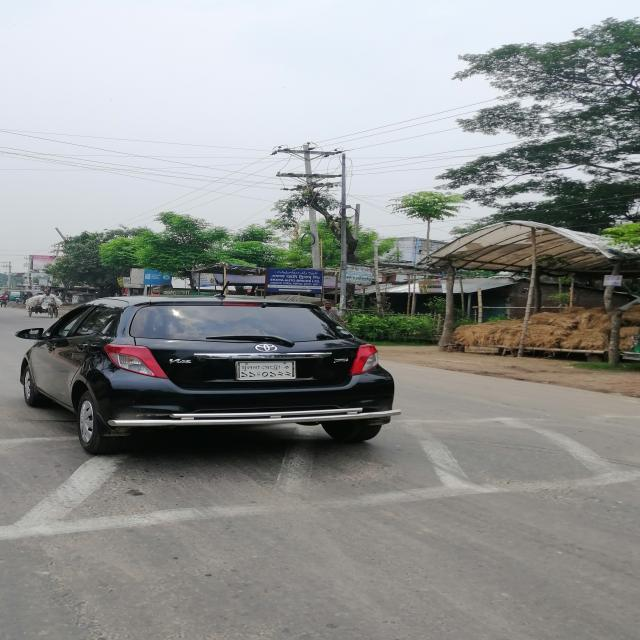Car: (1, 279, 440, 477)
